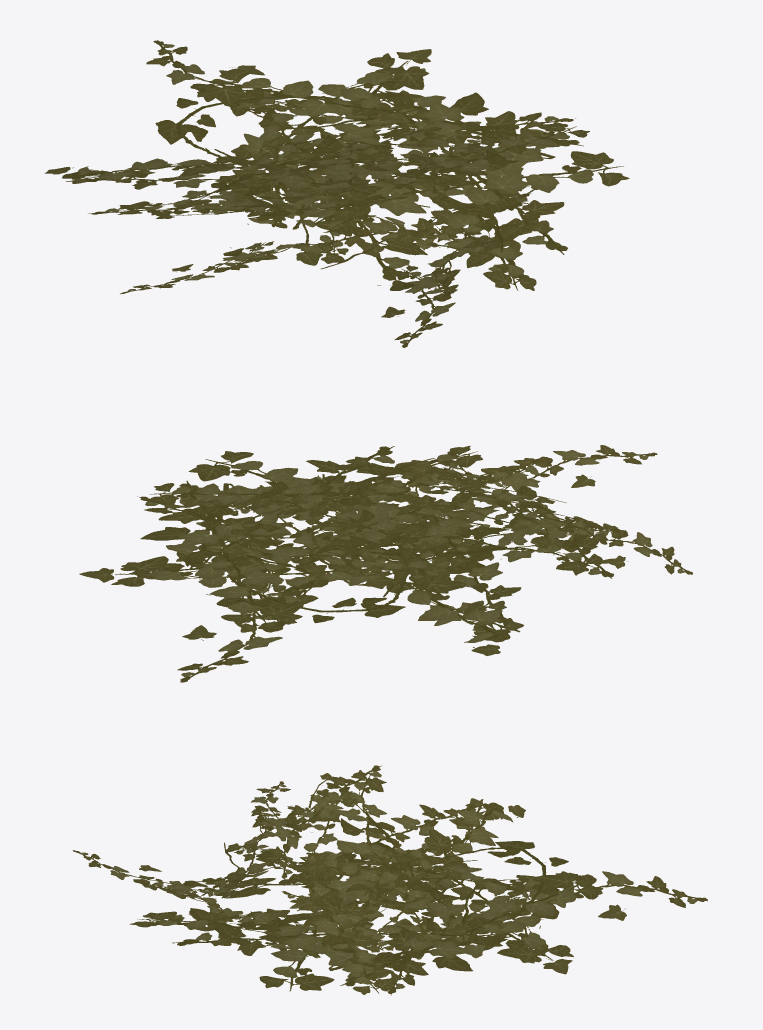
Rendered from SM_BS_BostonIvy_01_E2.fbx.
3 renders of one model, top to bottom at view 1: azimuth 30°, elevation 25°; view 2: azimuth 150°, elevation 25°; view 3: azimuth 270°, elevation 25°, orthographic. The views are drawn at different scales.
Parts seen in each view (by area): view 1: SM_BS_BostonIvy_01_E2; view 2: SM_BS_BostonIvy_01_E2; view 3: SM_BS_BostonIvy_01_E2.
Boxes of the visible parts, x1,y1,x2,y2 form: SM_BS_BostonIvy_01_E2: (44,40,629,347); SM_BS_BostonIvy_01_E2: (79,445,692,682); SM_BS_BostonIvy_01_E2: (72,765,707,995).
Bounding box in the file's own units: 336 × 432 × 35.95.
